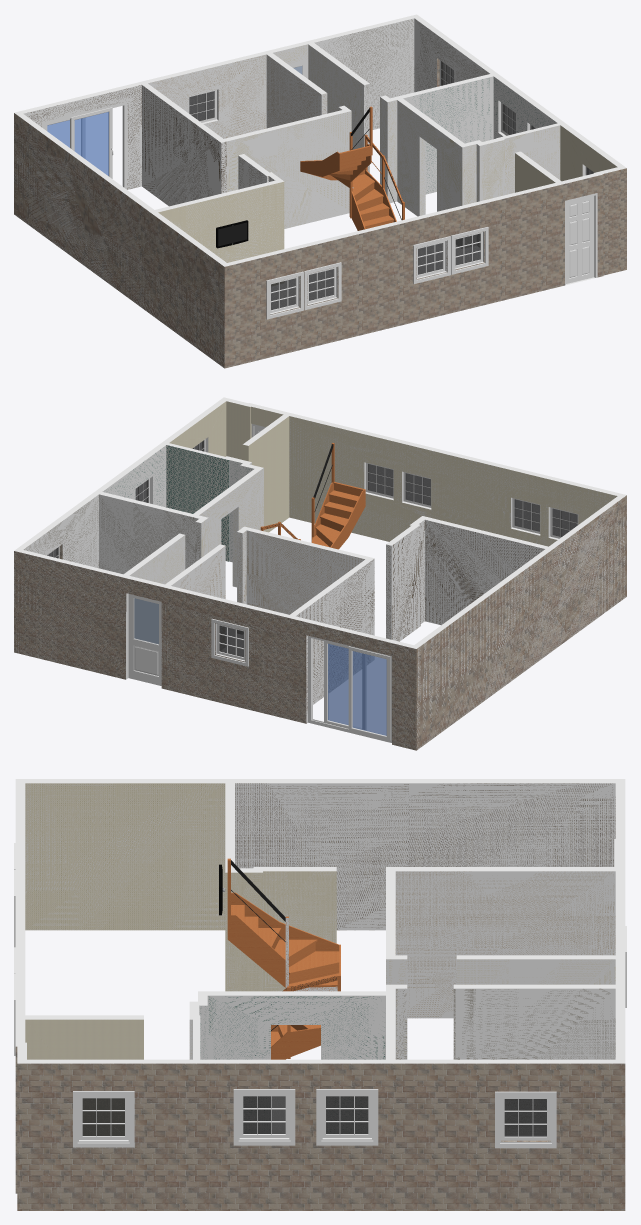
Rendered from robot_house_walls.dae.
3 renders of one model, top to bottom at view 1: azimuth 30°, elevation 25°; view 2: azimuth 150°, elevation 25°; view 3: azimuth 270°, elevation 25°, orthographic. The views are drawn at different scales.
Parts seen in each view (by area): view 1: SketchUp (×10), Escalier_en_U, Porte_droite (×2), Awning_window_with_mullions_32_in._x_32_in. (×4), Panel_Door, Baie_vitrée, group_5; view 2: SketchUp (×9), Porte_gauche (×3), Porte_droite (×3), Escalier_en_U, Frosted_Glass, Baie_vitrée, Awning_window_with_mullions_32_in._x_32_in., R_RAIL; view 3: SketchUp (×9), Awning_window_with_mullions_32_in._x_32_in. (×8), Escalier_en_U.
Boxes of the visible parts, x1,y1,x2,y2 form: SketchUp (×10): [14, 14, 626, 368]; Escalier_en_U: [300, 106, 404, 230]; Porte_droite (×2): [75, 112, 108, 175]; Awning_window_with_mullions_32_in._x_32_in. (×4): [266, 227, 488, 319]; Panel_Door: [565, 193, 597, 285]; Baie_vitrée: [42, 101, 127, 189]; group_5: [218, 222, 246, 246]; SketchUp (×9): [14, 397, 626, 750]; Porte_gauche (×3): [348, 647, 390, 740]; Porte_droite (×3): [324, 641, 366, 729]; Escalier_en_U: [260, 443, 365, 549]; Frosted_Glass: [134, 598, 158, 644]; Baie_vitrée: [308, 635, 391, 742]; Awning_window_with_mullions_32_in._x_32_in.: [211, 618, 248, 666]; R_RAIL: [128, 594, 133, 679]; SketchUp (×9): [15, 779, 625, 1210]; Awning_window_with_mullions_32_in._x_32_in. (×8): [73, 1089, 556, 1148]; Escalier_en_U: [227, 858, 340, 1059].
Size of the model in its own units: 409 by 372 by 149.
